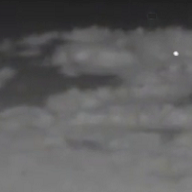Target: (173, 50, 179, 57)
